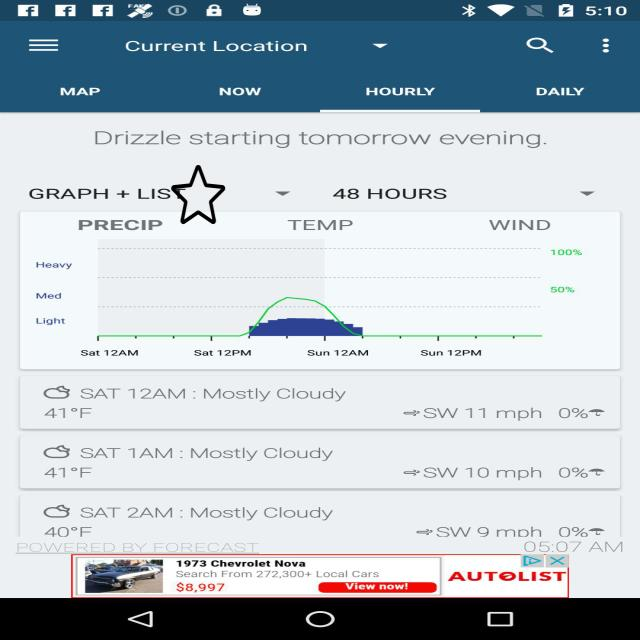forced continuity: (171, 164, 225, 225)
